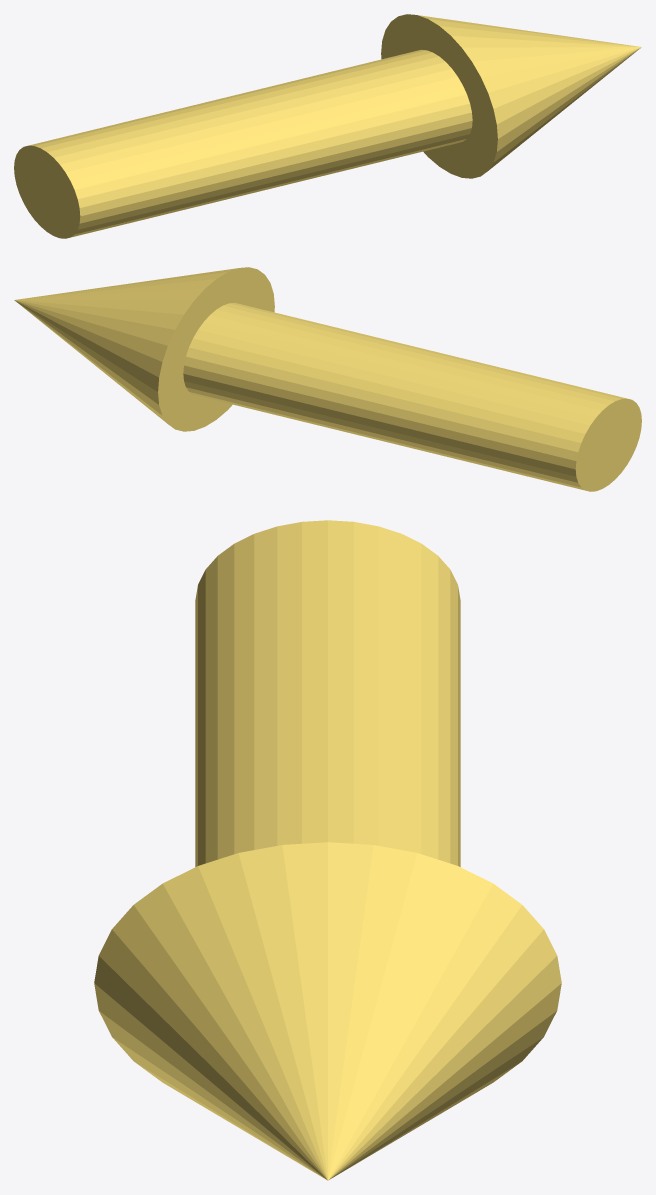
File: transparent_arrow.glb
3 renders of one model, top to bottom at view 1: azimuth 30°, elevation 25°; view 2: azimuth 150°, elevation 25°; view 3: azimuth 270°, elevation 25°, orthographic. The views are drawn at different scales.
Visible parts, largest first — view 1: arrow; view 2: arrow; view 3: arrow.
Boxes of the visible parts, x1,y1,x2,y2 form: arrow: (14,14,641,238); arrow: (14,267,641,491); arrow: (94,520,561,1180).
Size of the model in its own units: 8.78 by 1.99 by 2.99.
